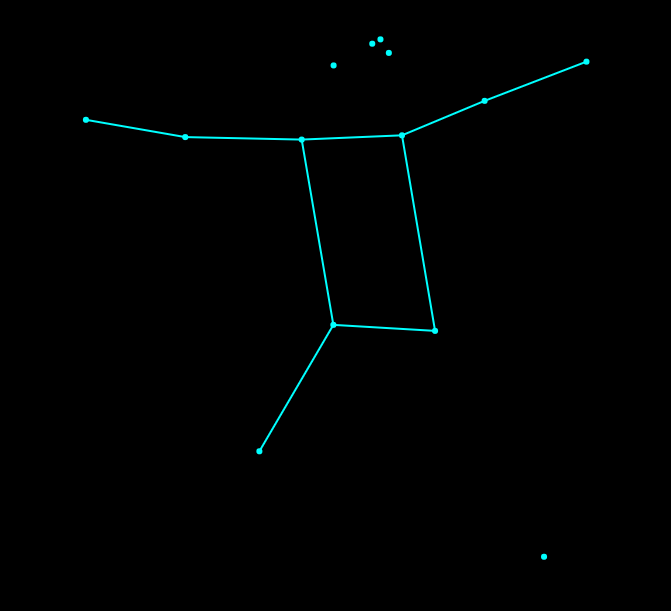warrior_2: (77, 28, 595, 566)
